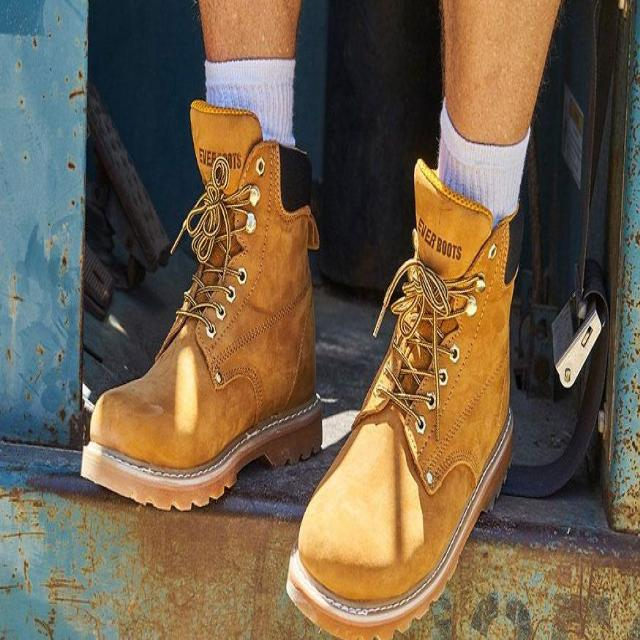Boots: (284, 154, 521, 640), (77, 99, 330, 512)
